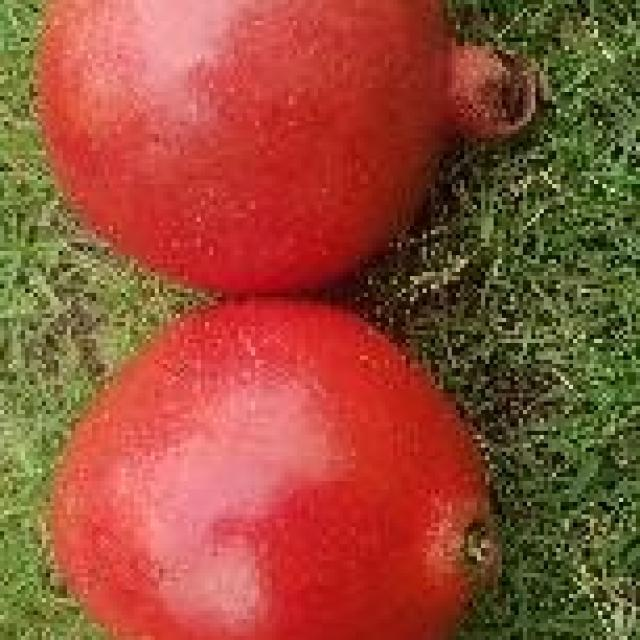Good_Pomegranate-50-60-days: (33, 0, 548, 640)
